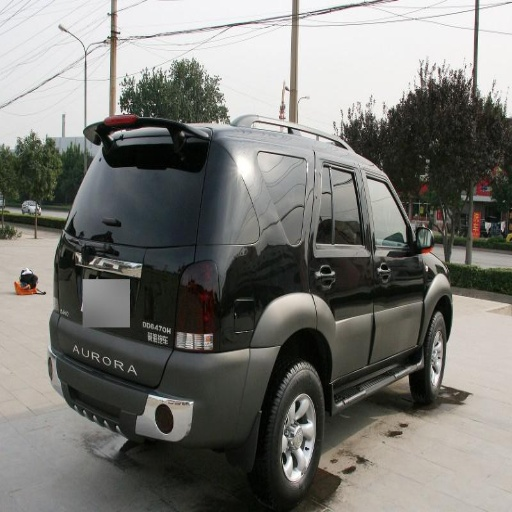_background_: (53, 317, 275, 443)
back_bumper: (79, 141, 212, 234), (251, 151, 299, 182)
back_left_light: (307, 151, 374, 401)
back_right_door: (181, 262, 217, 346)
front_left_light: (363, 164, 425, 366)
right_mirror: (139, 305, 173, 347)
tailgate: (61, 228, 200, 382)
trunk: (254, 356, 324, 511), (411, 309, 447, 406)
